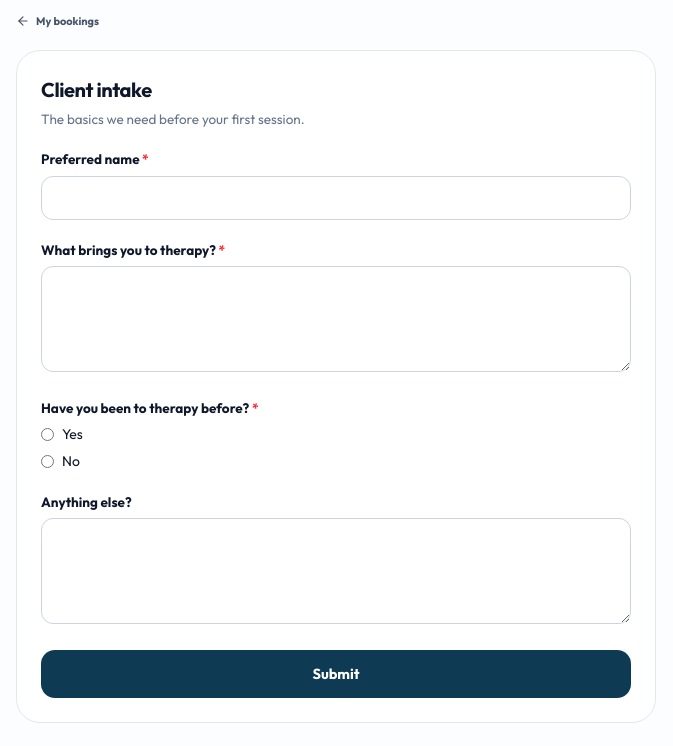
Scenario: the client form page › names the missing question instead of failing silently
The width and height of the screenshot is (673, 746).
Check: the field labelled "Preferred name *" is shown, box [41,176,631,220]
Click the button "Submit": (336, 674) [41,650,631,698]
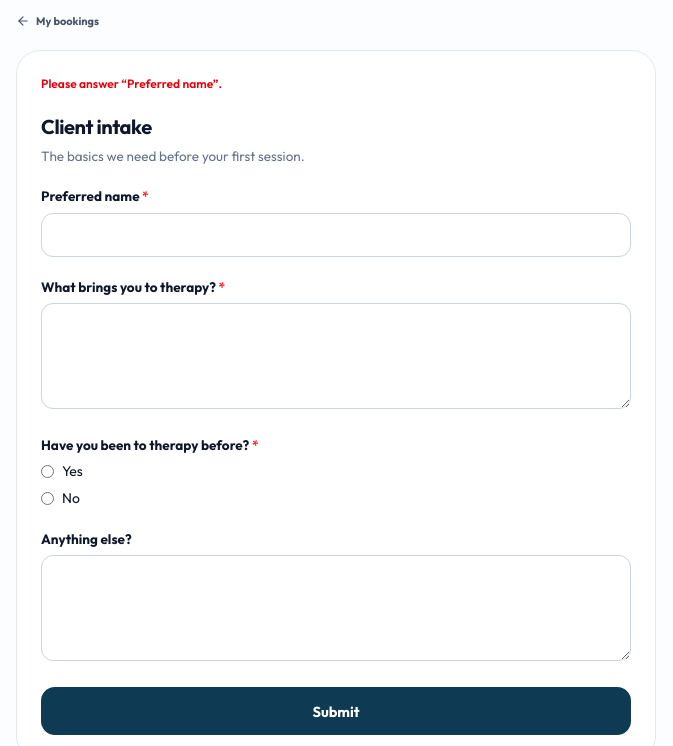
Check: the text "Please answer “Preferred name”." is shown, box [41,76,222,91]
